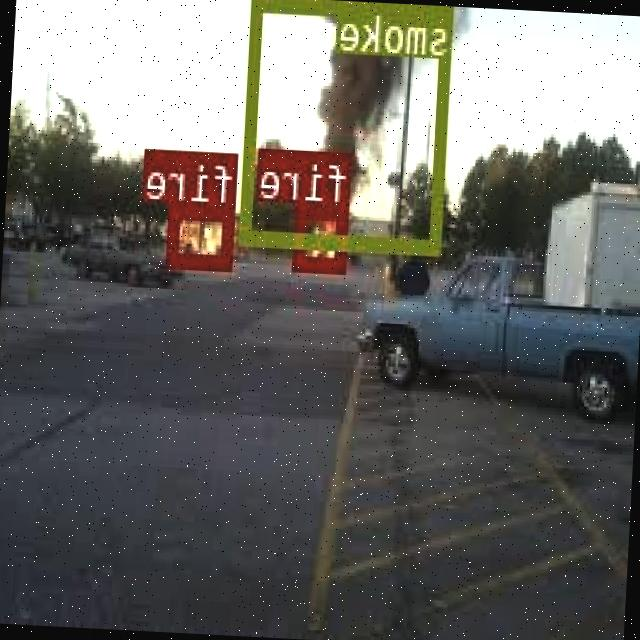fire: (170, 202, 238, 268), (295, 202, 352, 270)
smoke: (243, 0, 456, 253)
